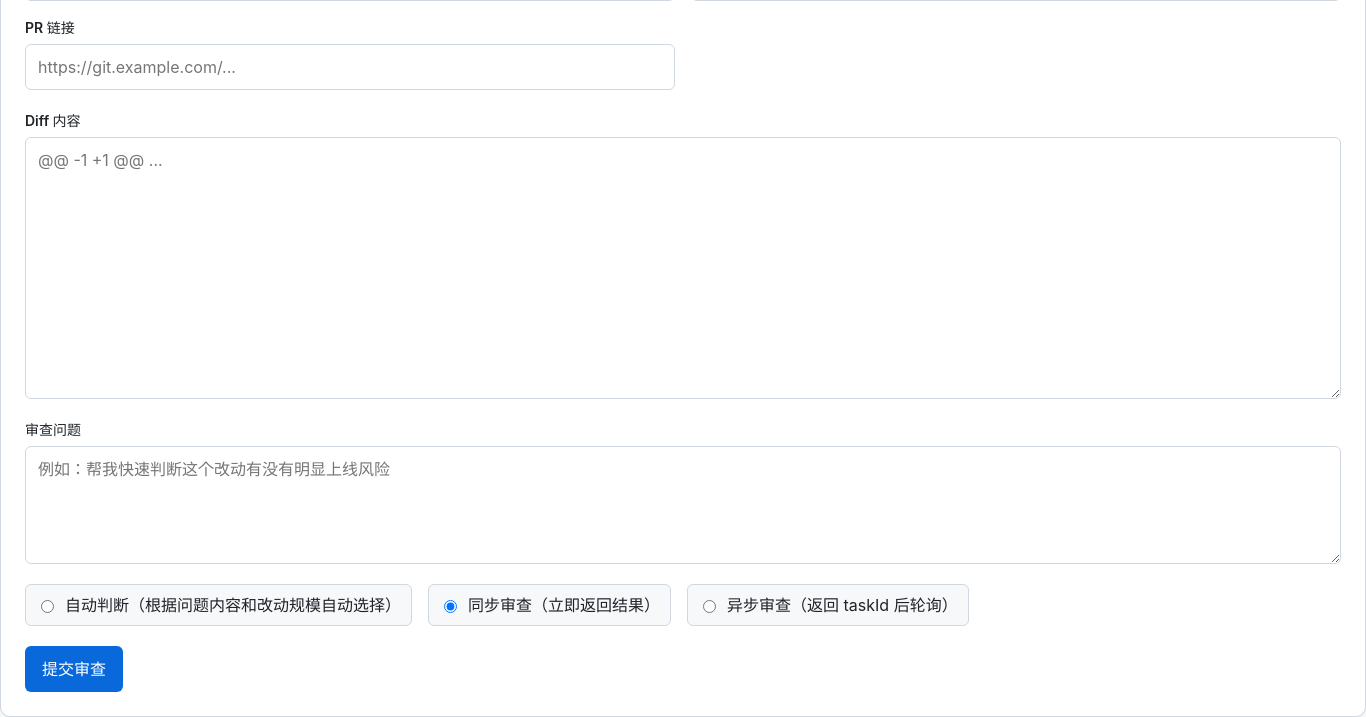
Test: SubmitPage › shows validation error when required fields are empty
(page scrolled)
Click the button "提交审查" at x=74, y=669, box [25,646,123,692]
(page scrolled)
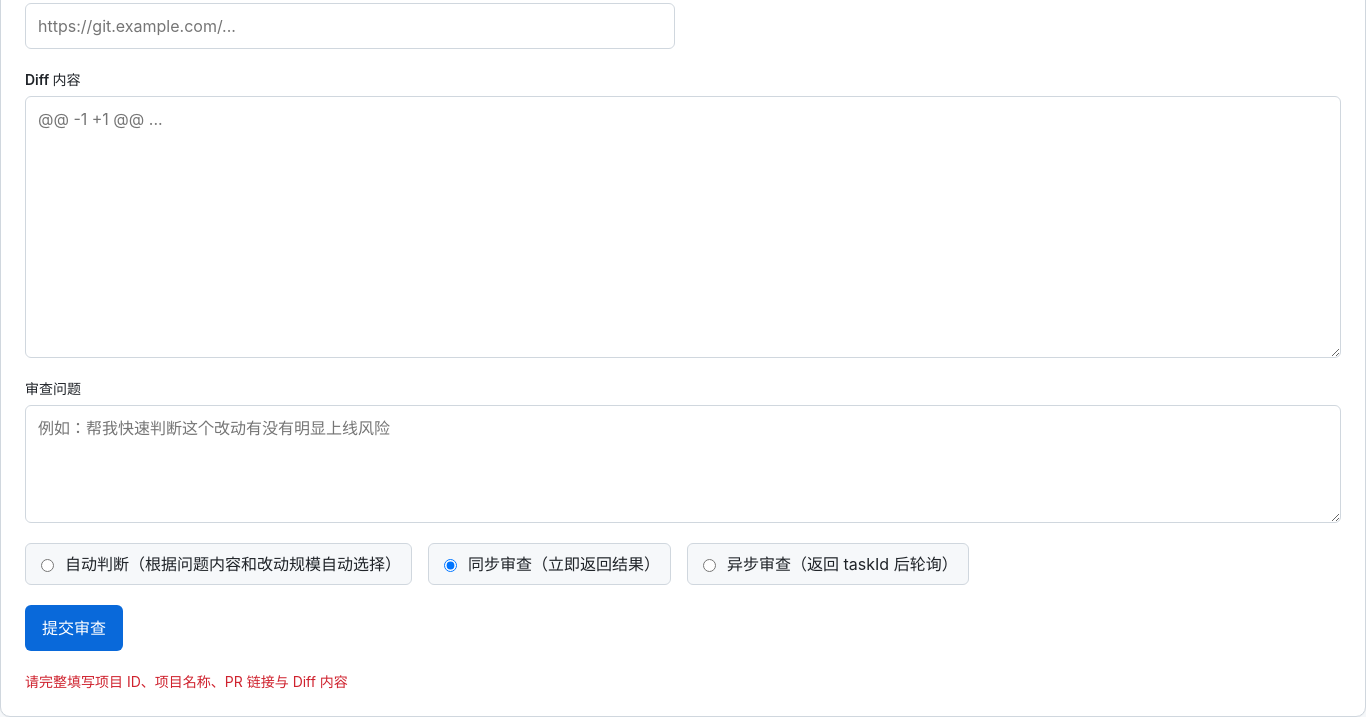
Result: the text "请完整填写项目 ID、项目名称、PR 链接与 Diff 内容" is shown at [25,673,348,690]
